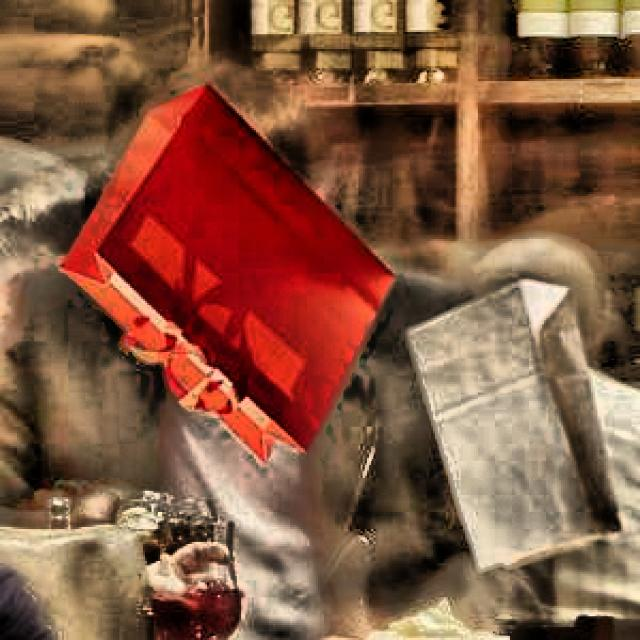Paper-bag: (43, 74, 401, 471), (394, 252, 627, 577)
